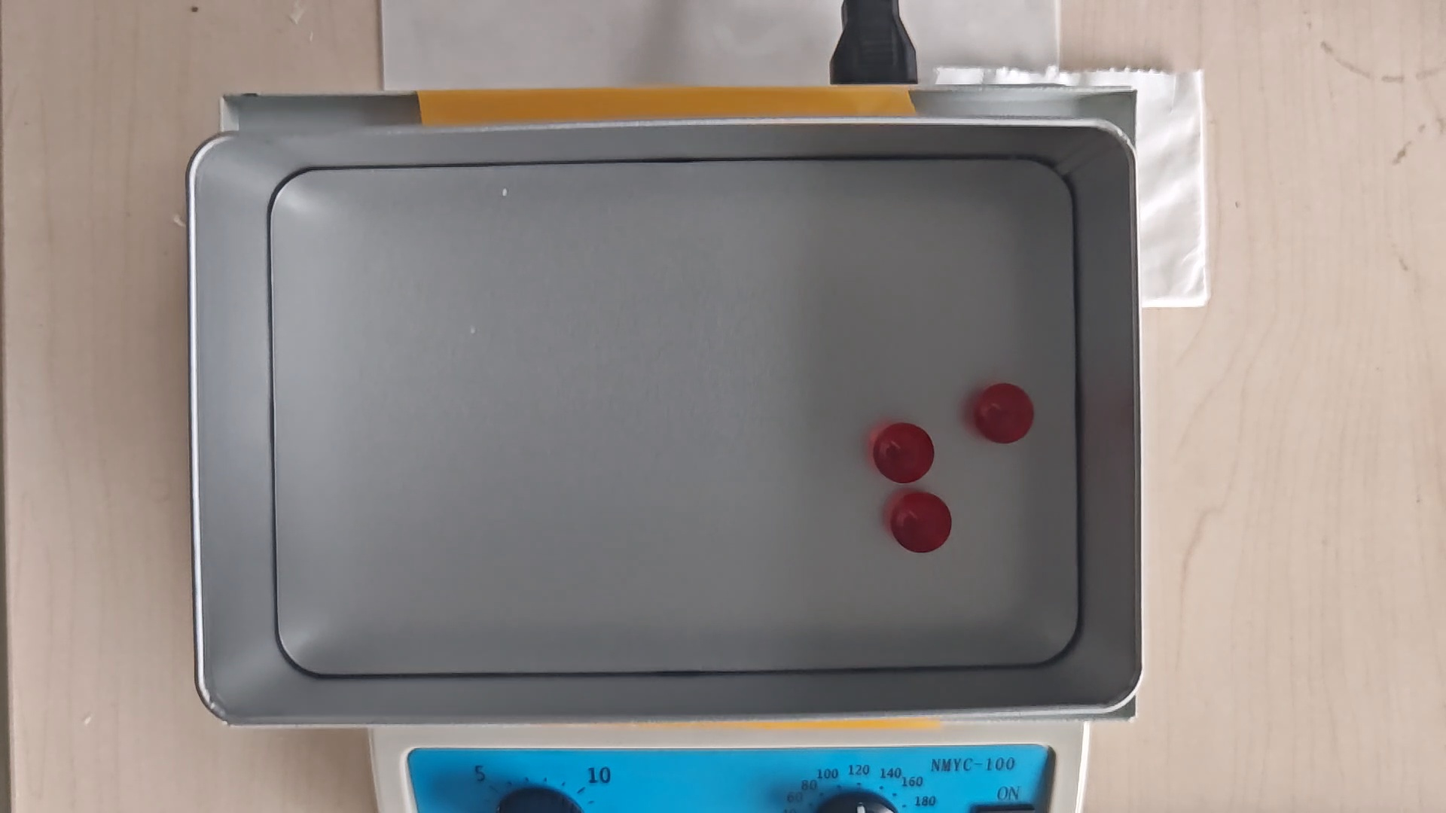ball: (871, 421, 935, 486), (889, 492, 954, 554), (975, 382, 1033, 446)
container: (272, 158, 1078, 673)
